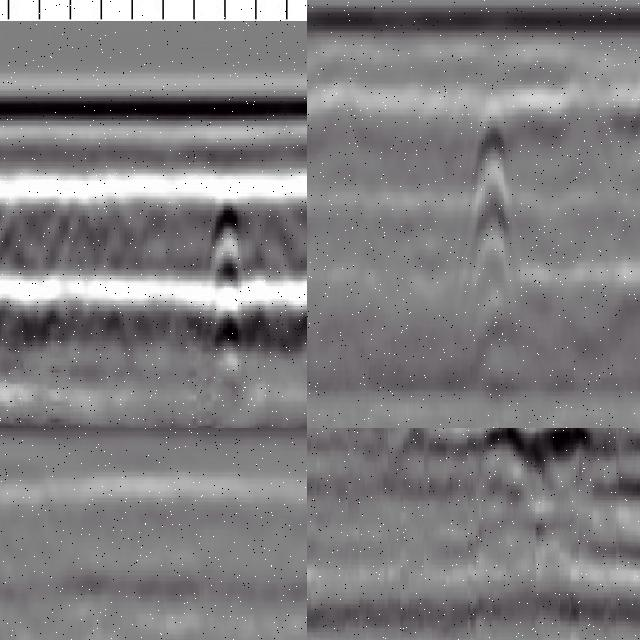crack: (197, 184, 250, 394), (472, 83, 510, 317)
loose: (414, 429, 640, 538), (1, 568, 95, 640)
